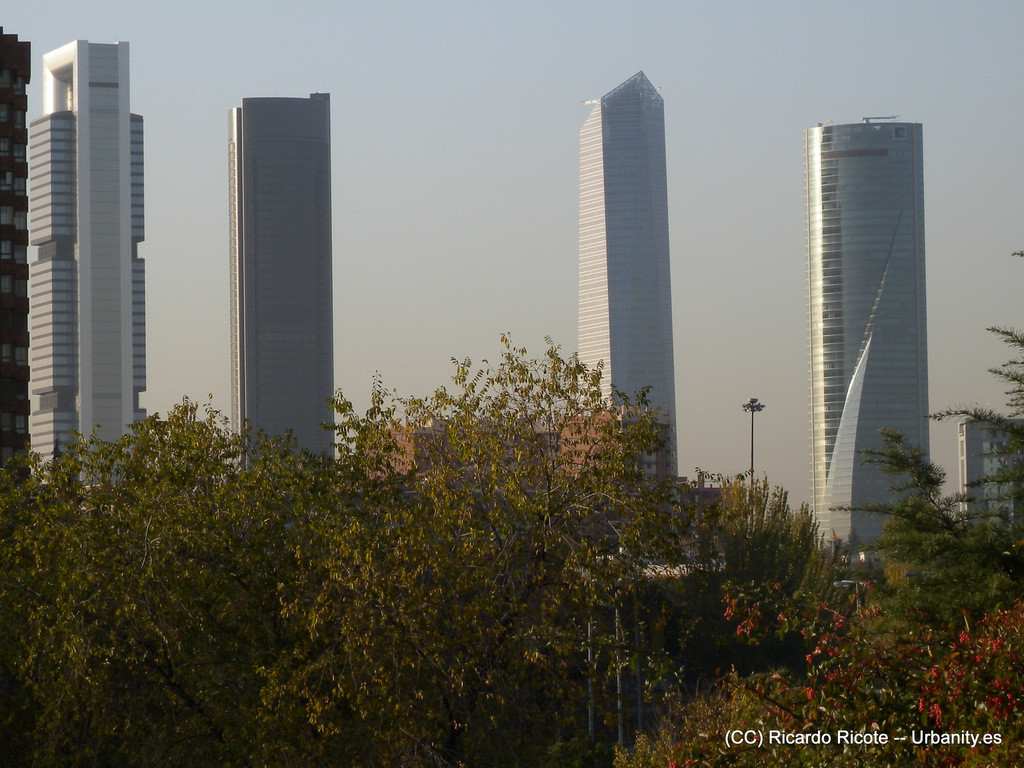Tree: (2, 248, 1023, 767)
